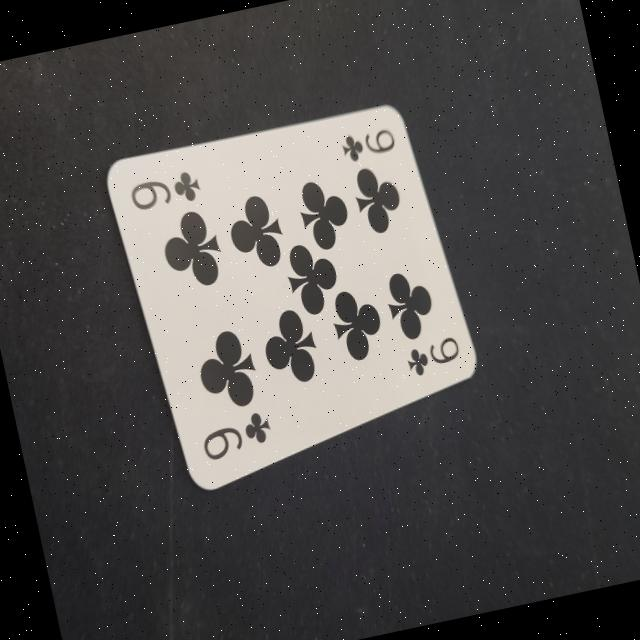9c: (186, 402, 286, 479), (120, 160, 206, 226), (391, 326, 471, 386), (327, 120, 402, 172)
